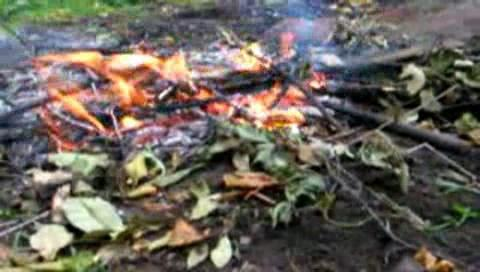fire: (47, 52, 302, 127)
